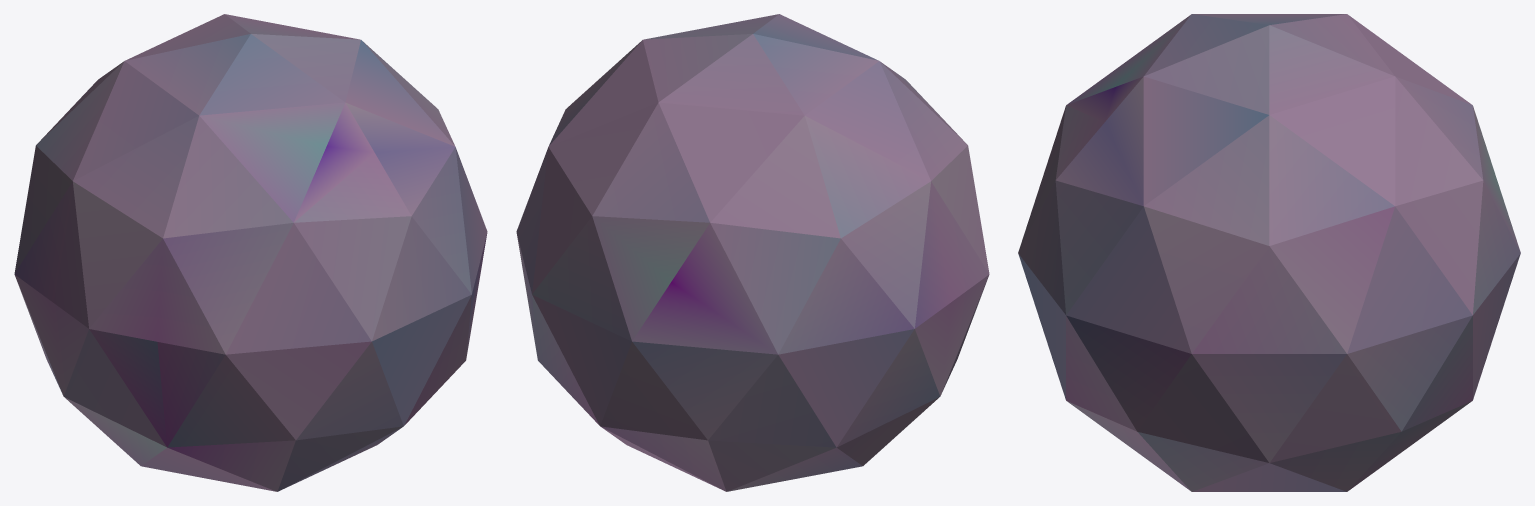
3 views of the same model, side by side, from view 1: azimuth 30°, elevation 25°; view 2: azimuth 150°, elevation 25°; view 3: azimuth 270°, elevation 25° (orthographic). The views are drawn at different scales.
Visible parts, largest first — view 1: faceted_body; view 2: faceted_body; view 3: faceted_body.
Part boxes in pixels (x1,y1,x2,y2): faceted_body: (14, 14, 487, 491); faceted_body: (516, 14, 989, 491); faceted_body: (1018, 14, 1520, 491).
Bounding box in the file's own units: 1.14 × 1.2 × 1.2.
